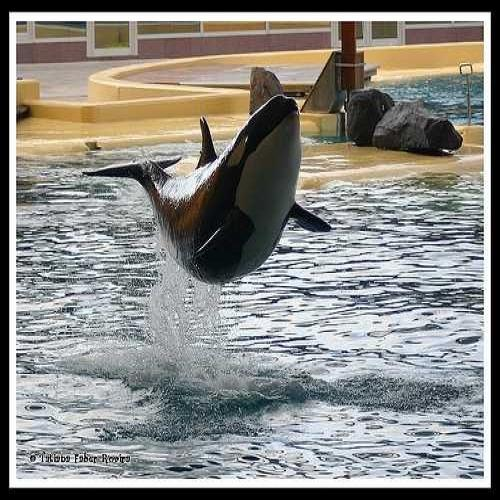killer_whale-endangered: (94, 88, 327, 291)
